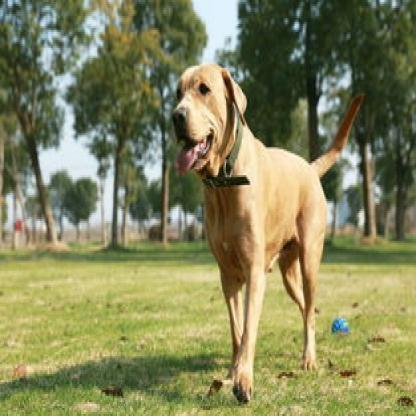dog: (171, 63, 359, 385)
